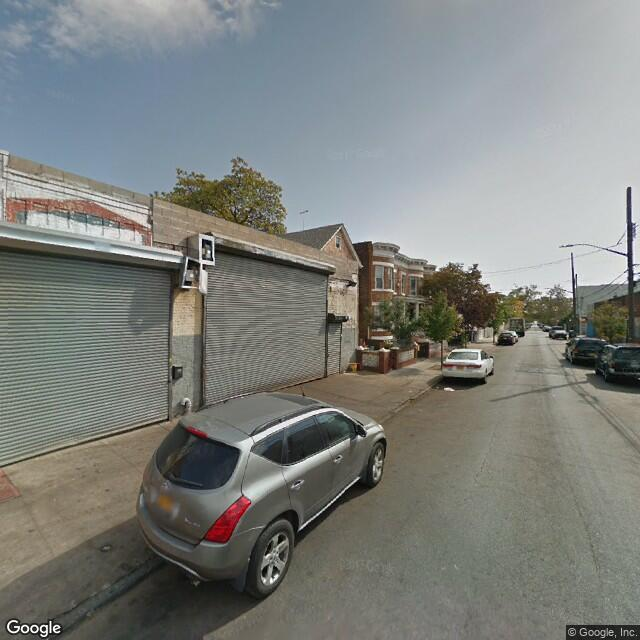litter: (442, 383, 455, 395), (100, 543, 112, 550)
